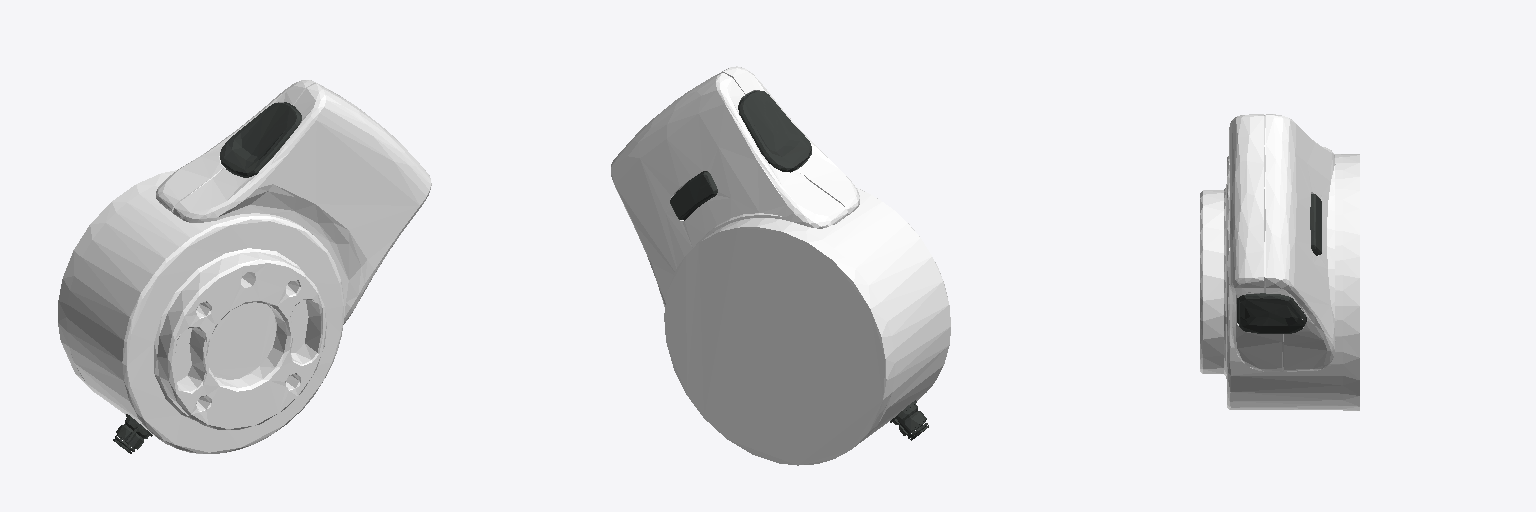
The picture shows the model from 3 angles: view 1: azimuth 30°, elevation 25°; view 2: azimuth 150°, elevation 25°; view 3: azimuth 270°, elevation 25°; orthographic projection.
Bounding box in the file's own units: 0.1254 × 0.1254 × 0.0549.
Materials: 1 (1 with a texture image).